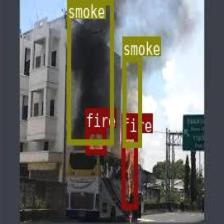fire: (121, 132, 136, 209), (85, 127, 105, 154)
smoke: (67, 0, 112, 144), (122, 56, 140, 146)
